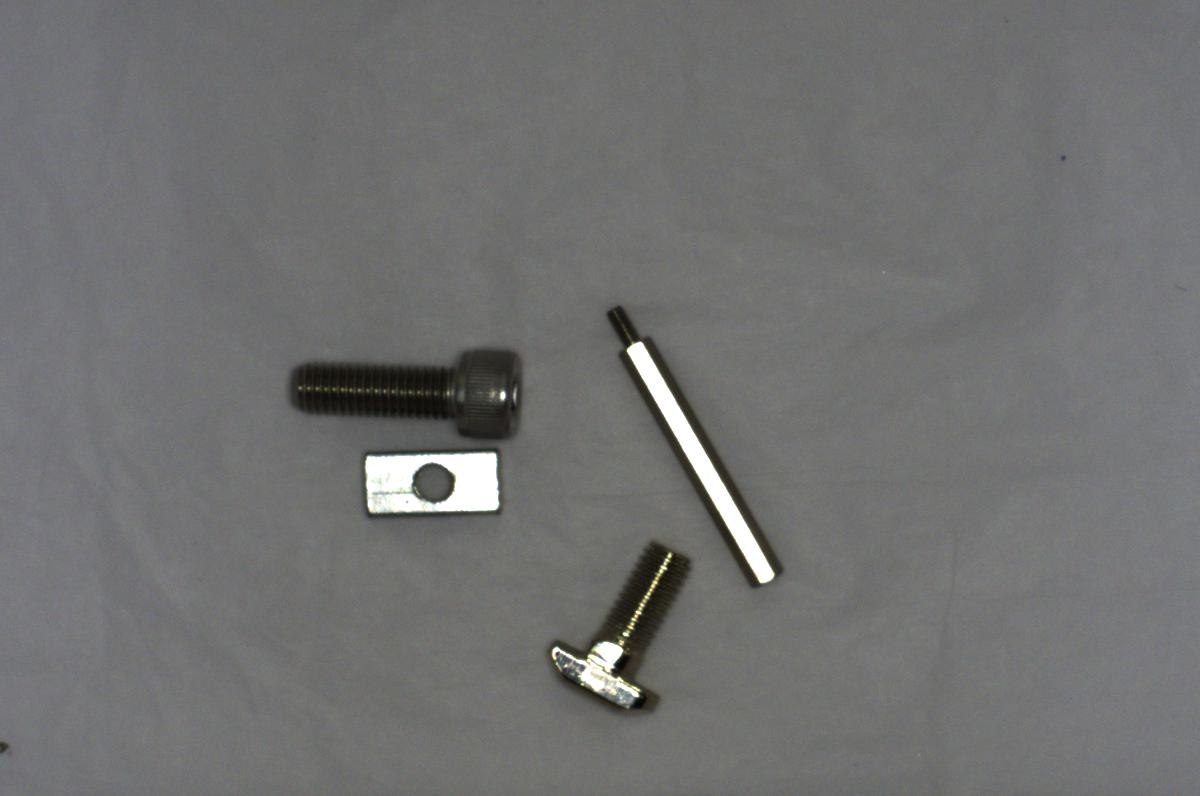Hexagon screw: (279, 340, 532, 446)
Hexagonal steel column: (605, 300, 778, 583)
Rectangular nut: (347, 443, 513, 529)
T-shaped screw: (533, 538, 699, 722)
